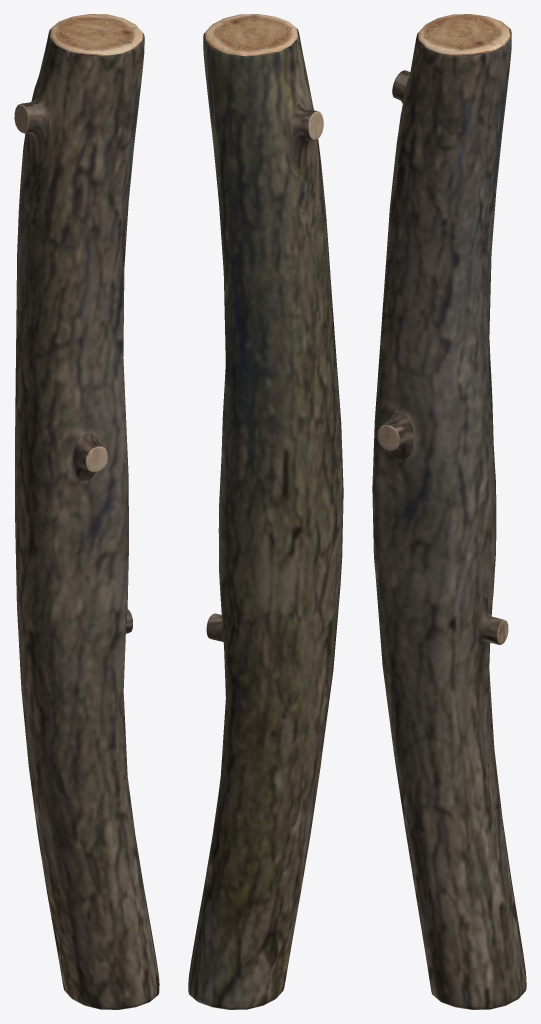
Rendered from Branch1.fbx.
3 views of the same model, side by side, from view 1: azimuth 30°, elevation 25°; view 2: azimuth 150°, elevation 25°; view 3: azimuth 330°, elevation 25° (orthographic).
Parts seen in each view (by area): view 1: branch1; view 2: branch1; view 3: branch1.
Part boxes in pixels (box(x1,y1,x2,y2)): branch1: box(14, 14, 159, 1009); branch1: box(188, 14, 343, 1009); branch1: box(372, 14, 526, 1009).
Size of the model in its own units: 66.68 by 468 by 56.4.
Materials: 1 (1 with a texture image).
